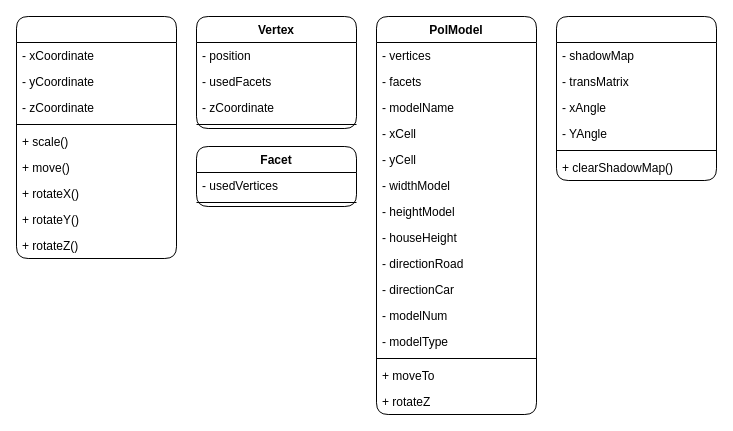
The diagram is 733 pixels wide and 431 high, and some of its shapes have lost their labels. Each missing label, with the box of its shape:
Dot3D: (16, 16, 176, 258)
Illuminant: (556, 16, 716, 180)
